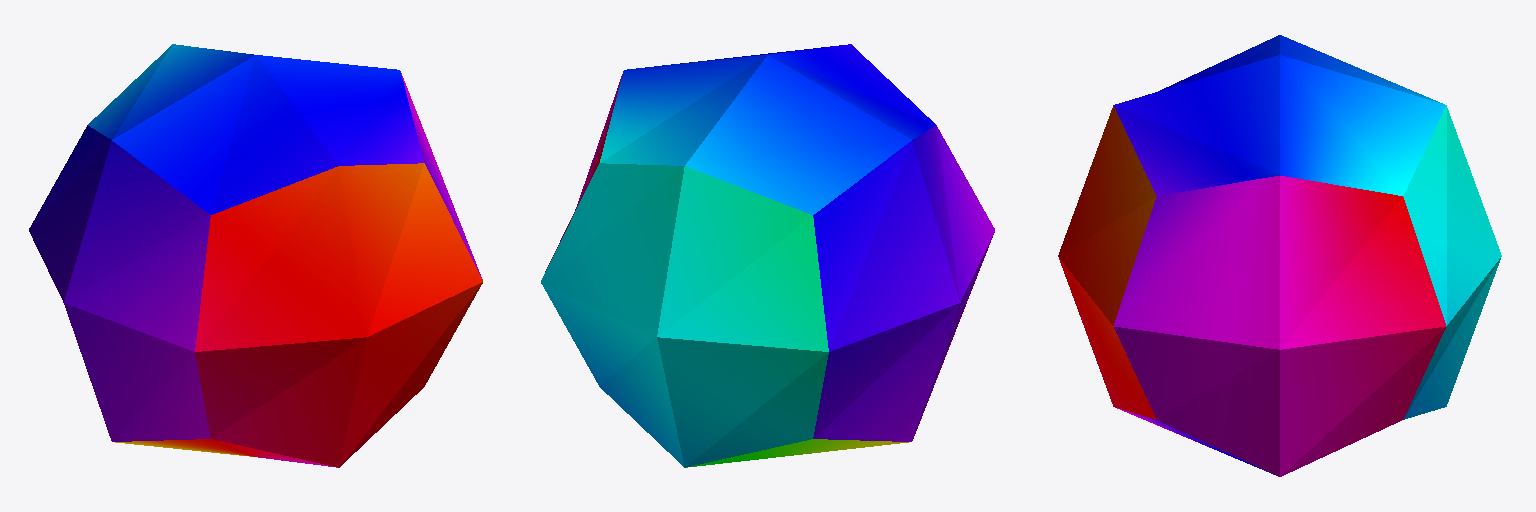
3 views of the same model, side by side, from view 1: azimuth 30°, elevation 25°; view 2: azimuth 150°, elevation 25°; view 3: azimuth 270°, elevation 25° (orthographic).
Parts seen in each view (by area): view 1: punktowe; view 2: punktowe; view 3: punktowe.
Boxes of the visible parts, <box> form: punktowe: <box>29,44,482,467</box>; punktowe: <box>541,44,994,467</box>; punktowe: <box>1058,35,1501,476</box>.
Bounding box in the file's own units: 50 × 50 × 50.
Materials: 1 (1 with a texture image).